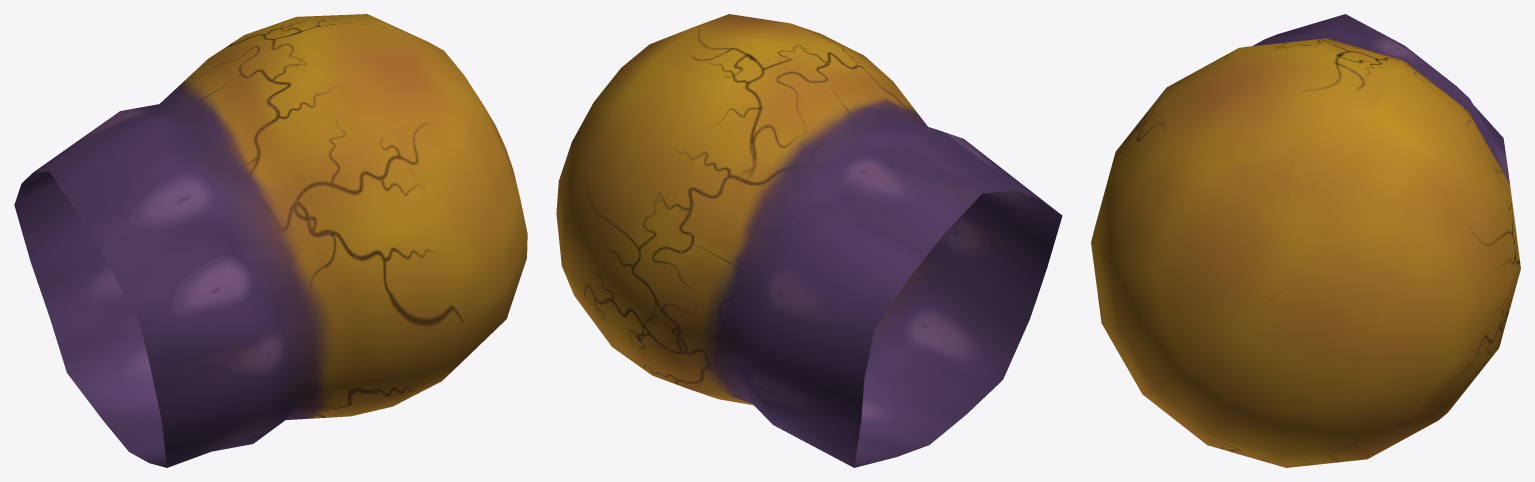
The model's file is BackThing.fbx.
3 renders of one model, left to right at view 1: azimuth 30°, elevation 25°; view 2: azimuth 150°, elevation 25°; view 3: azimuth 270°, elevation 25°, orthographic. The views are drawn at different scales.
Visible parts, largest first — view 1: Sphere.001; view 2: Sphere.001; view 3: Sphere.001.
Boxes of the visible parts, x1,y1,x2,y2 form: Sphere.001: (14, 14, 527, 467); Sphere.001: (556, 14, 1062, 467); Sphere.001: (1091, 14, 1520, 467).
Size of the model in its own units: 156 by 131 by 127.
